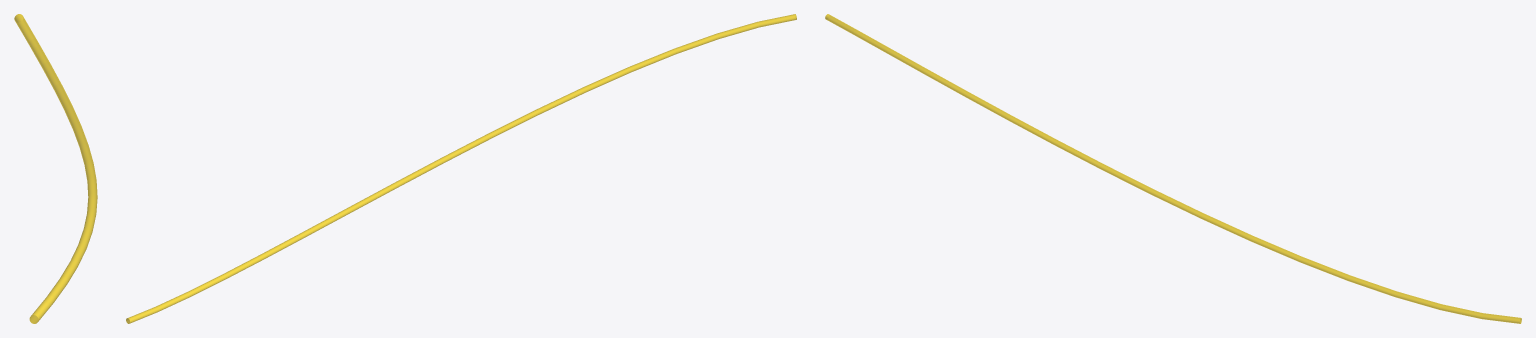
File: Event_84804159_track_80.fbx
The picture shows the model from 3 angles, left to right: view 1: azimuth 90°, elevation 25°; view 2: azimuth 210°, elevation 25°; view 3: azimuth 330°, elevation 25°; orthographic projection. The views are drawn at different scales.
Visible parts, largest first — view 1: Model; view 2: Model; view 3: Model.
Part boxes in pixels (x1,y1,x2,y2): Model: [14, 14, 97, 323]; Model: [126, 14, 796, 323]; Model: [825, 14, 1521, 323].
Size of the model in its own units: 5.2 by 1.05 by 0.3542.
